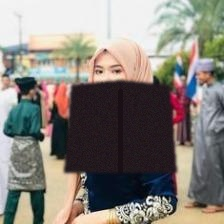Cadar_Niqab: (64, 34, 176, 172)
